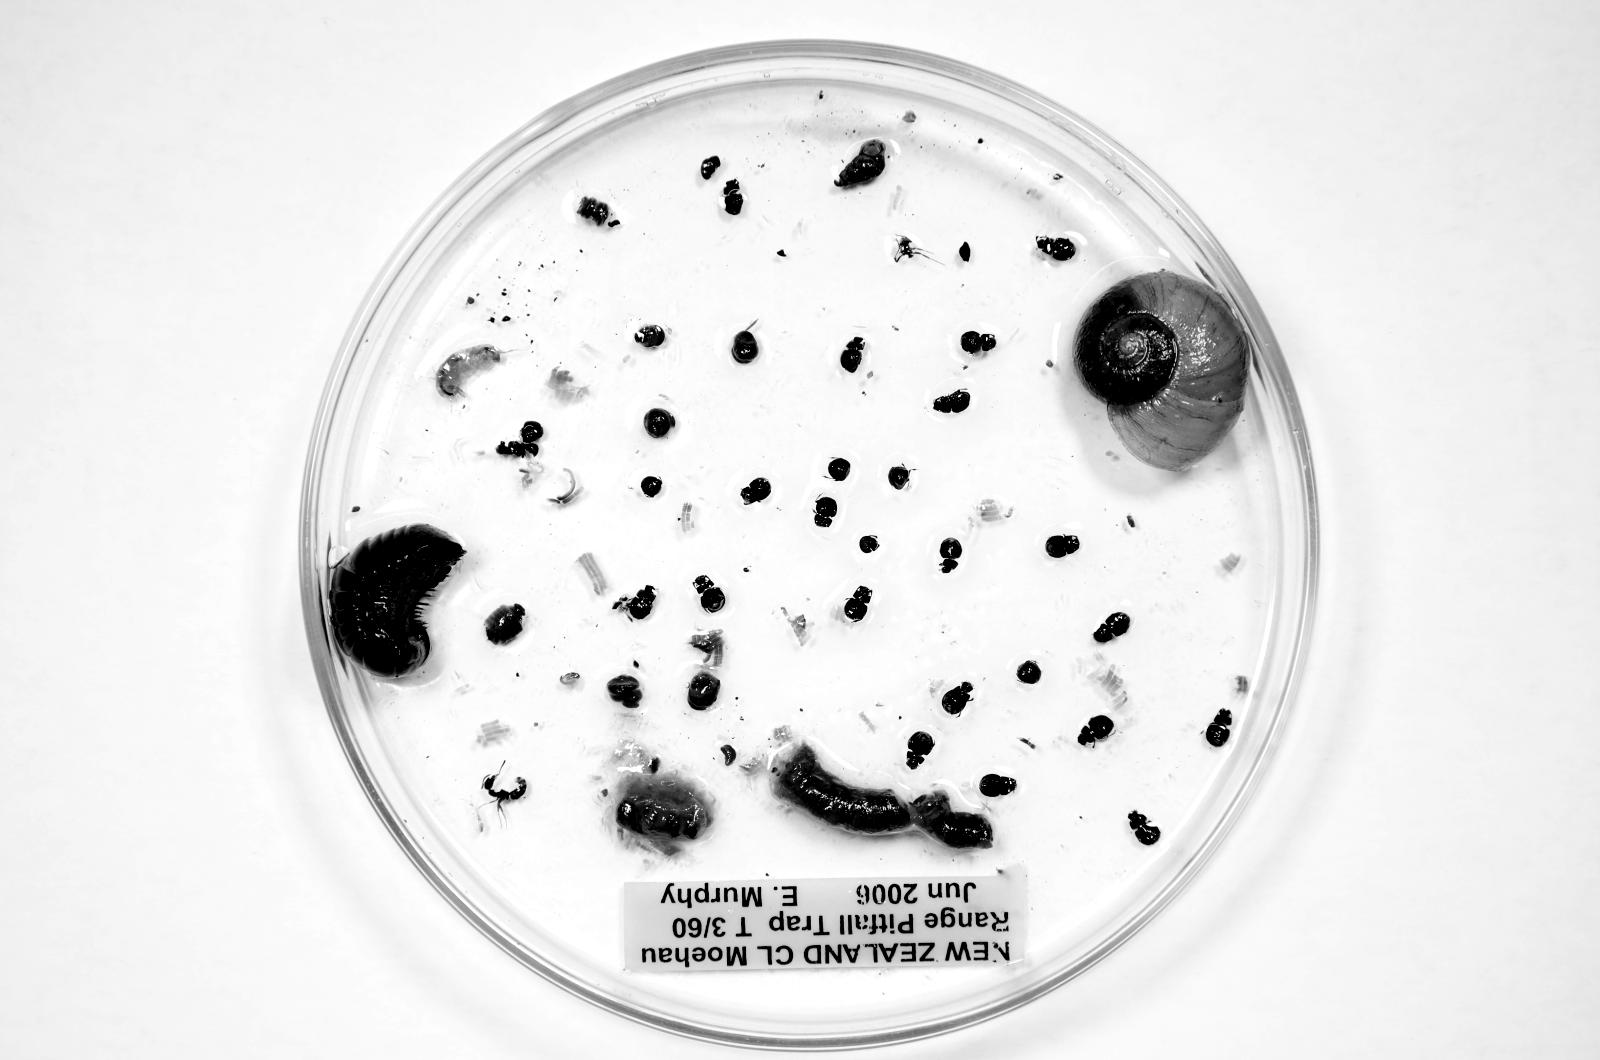amphipoda: (436, 345, 503, 399)
coleoptera: (1093, 612, 1131, 644), (1128, 810, 1161, 846), (623, 584, 656, 620), (1076, 715, 1114, 745), (906, 730, 935, 769), (695, 576, 726, 613), (941, 681, 973, 716), (843, 586, 873, 622), (1036, 235, 1077, 261), (960, 330, 997, 357), (1206, 709, 1232, 746), (840, 336, 866, 373), (933, 389, 971, 414), (979, 773, 1017, 797), (740, 477, 771, 505), (939, 537, 961, 574), (1045, 535, 1080, 558), (723, 179, 744, 215), (814, 496, 837, 528)
formicidae: (482, 774, 527, 804)
gastropoda: (1075, 271, 1249, 471), (835, 138, 886, 188)
isopoda: (329, 524, 465, 677)
